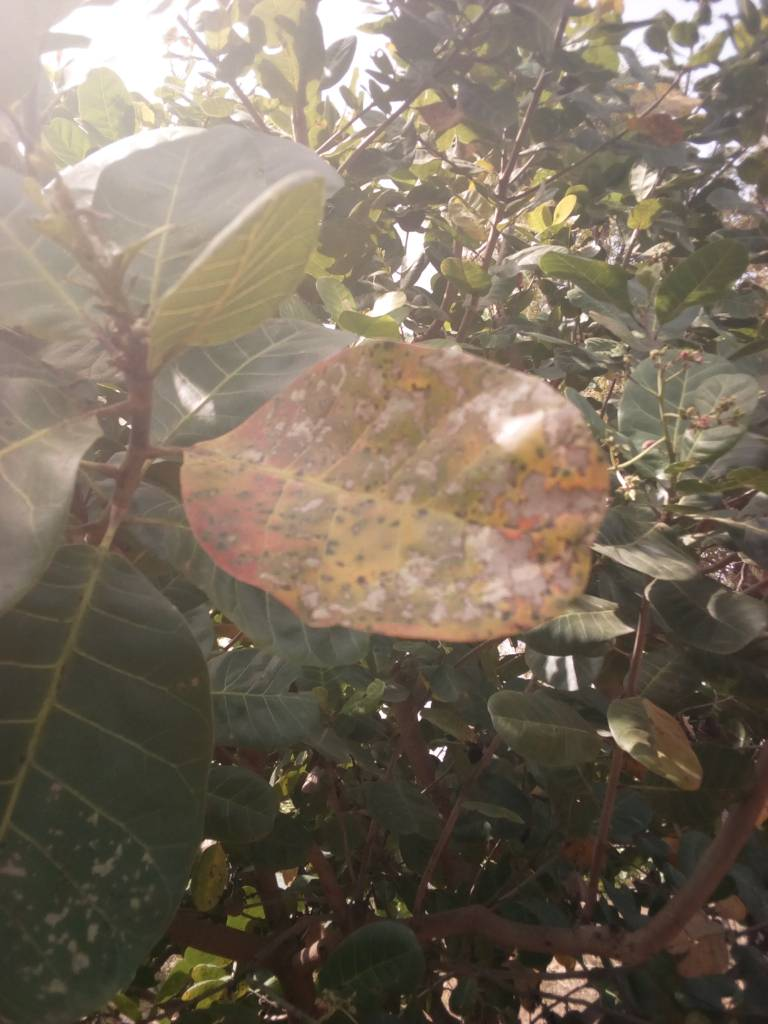Anthracnose: (175, 338, 602, 646)
